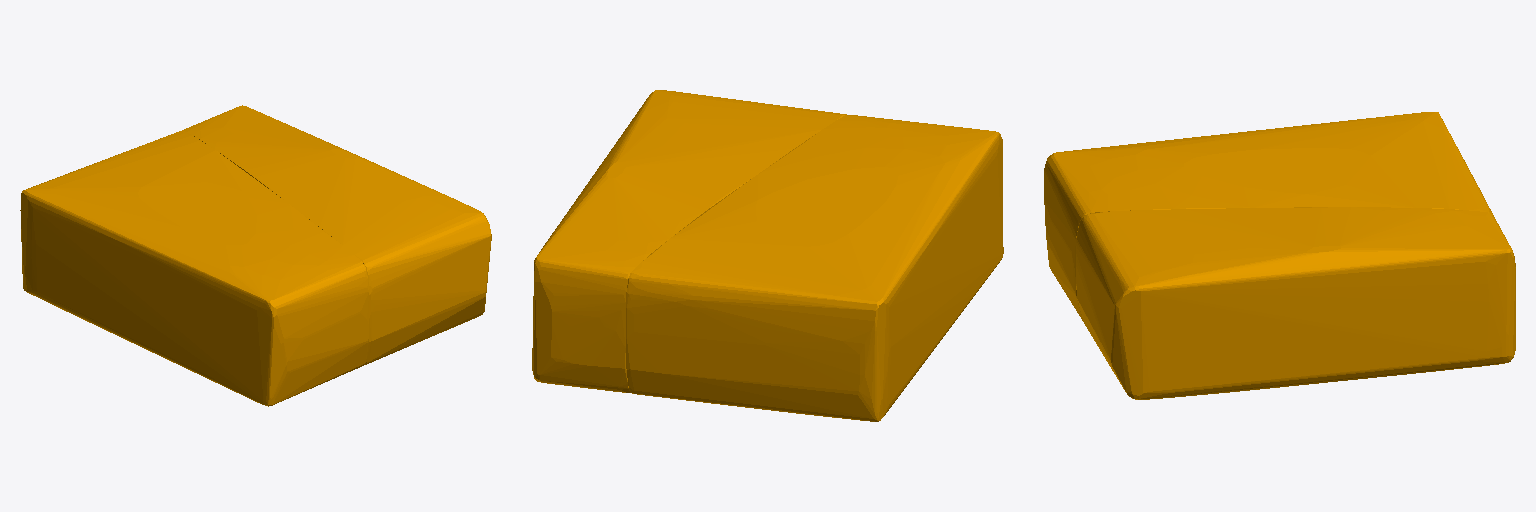
robot.urdf — 009_gelatin_box:
<?xml version="1.0" encoding="UTF-8"?>
<robot name="009_gelatin_box">
	<link name="base">
		<collision>
			<geometry>
				<mesh filename="..\vhacd\009_gelatin_box_vhacd.obj" scale="1.0 1.0 1.0"/>
			</geometry>
			<origin xyz="0 0 0"/>
			<contact_coefficients mu="0.24" />
		</collision>
		<visual>
			<geometry>
				<mesh filename="..\vhacd\009_gelatin_box_vhacd.obj" scale="1.0 1.0 1.0"/>
			</geometry>
			<origin xyz="0 0 0"/>
		</visual>
		<inertial>
			<mass value="0"/>
			<inertia ixx="0.0" ixy="0.0" ixz="0.0" iyy="0.0" iyz="-0.0" izz="0.0" />
			<origin xyz="-0.022675517945306367 -0.007860203218472533 0.013877966010850543"/>
		</inertial>
	</link>
</robot>

--- Render facts (derived) ---
Views: 3 orthographic renders of the robot side by side, from view 1: azimuth 30°, elevation 25°; view 2: azimuth 150°, elevation 25°; view 3: azimuth 270°, elevation 25°.
Model 009_gelatin_box with 1 links and 0 joints (none), rooted at base, posed all joints at 0.
Visible links, largest first — view 1: base; view 2: base; view 3: base.
Boxes of the visible links, x1,y1,x2,y2 form: base: (20,105,491,406); base: (532,90,1003,421); base: (1044,112,1515,399).
Size in the robot's own frame: 0.0896 by 0.1014 by 0.0302 metres.
1 mesh visuals loaded from 1 distinct referenced files (1 OBJ).